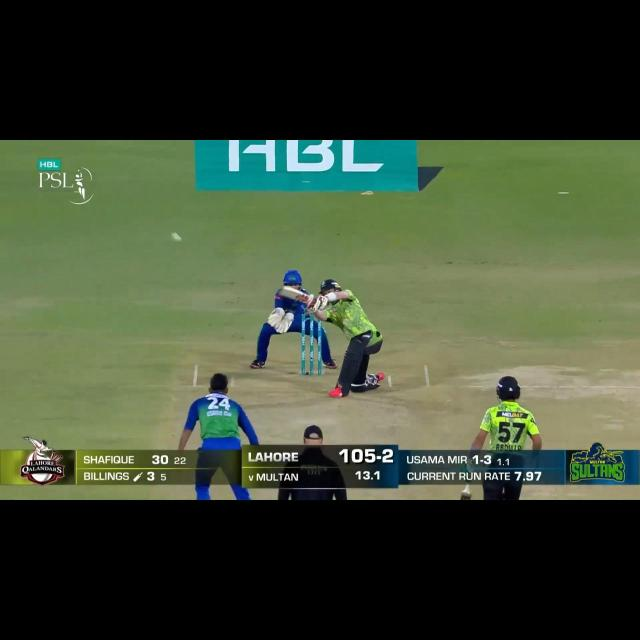bat: (274, 285, 314, 303), (457, 484, 474, 501)
toe: (275, 284, 286, 296)
